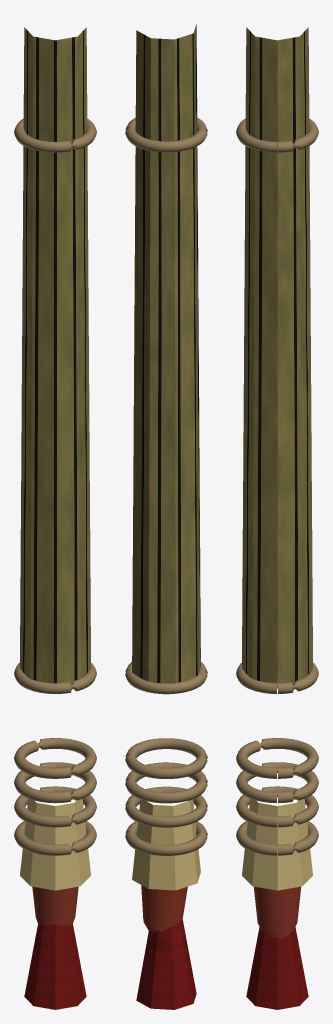
The model's file is cinnabar_pen.glb.
The picture shows the model from 3 angles, left to right: view 1: azimuth 90°, elevation 25°; view 2: azimuth 150°, elevation 25°; view 3: azimuth 270°, elevation 25°; orthographic projection.
Parts seen in each view (by area): view 1: Handle, Art_FadedThread, Tip, Ferrule, Art_CinnabarBinding; view 2: Handle, Art_FadedThread, Ferrule, Tip, Art_CinnabarBinding; view 3: Handle, Art_FadedThread, Ferrule, Tip, Art_CinnabarBinding.
Part boxes in pixels (bbox=[...]): Handle: bbox=[20, 27, 90, 685]; Art_FadedThread: bbox=[14, 118, 96, 855]; Tip: bbox=[24, 924, 86, 1009]; Ferrule: bbox=[20, 798, 90, 890]; Art_CinnabarBinding: bbox=[32, 886, 78, 926]; Handle: bbox=[132, 24, 200, 683]; Art_FadedThread: bbox=[125, 117, 207, 855]; Ferrule: bbox=[132, 799, 200, 890]; Tip: bbox=[136, 919, 196, 1009]; Art_CinnabarBinding: bbox=[141, 885, 187, 933]; Handle: bbox=[242, 27, 312, 688]; Art_FadedThread: bbox=[236, 118, 318, 855]; Ferrule: bbox=[242, 798, 312, 890]; Tip: bbox=[246, 927, 308, 1009]; Art_CinnabarBinding: bbox=[253, 886, 301, 938].
Size of the model in its own units: 0.0186 by 0.24 by 0.0186.
5 materials, 2 textured.
